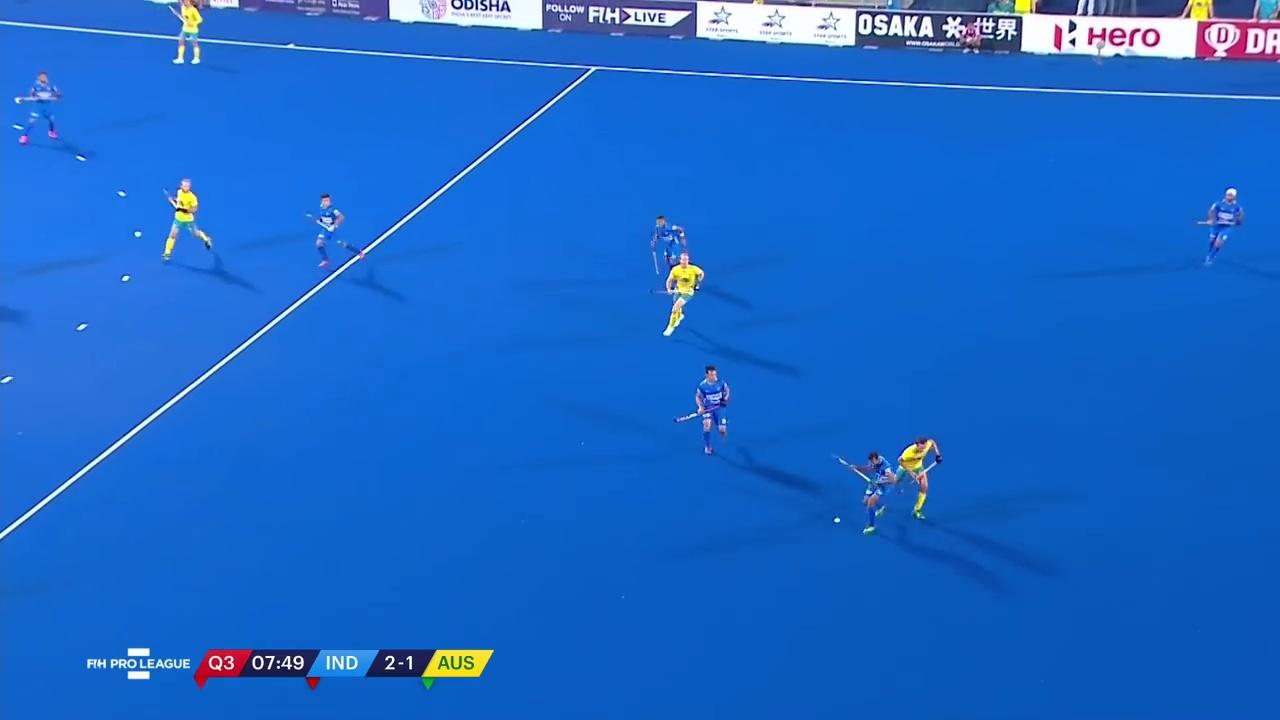ball: (829, 515, 844, 524)
